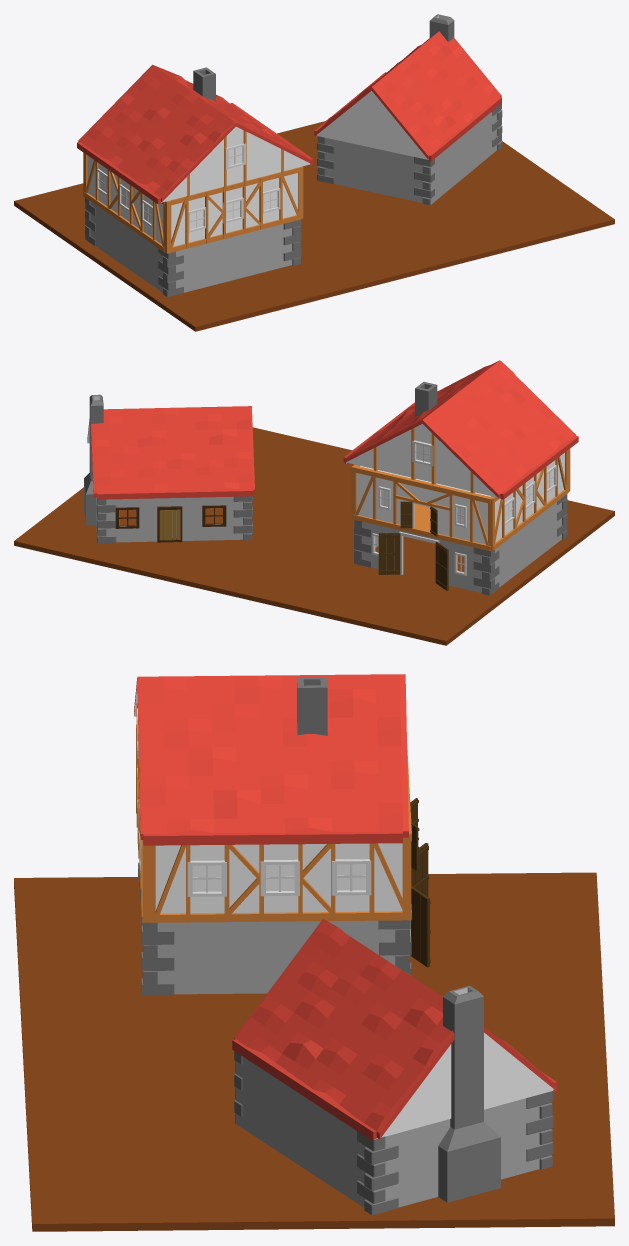
File: WarehouseAge2.fbx
The picture shows the model from 3 angles, top to bottom: view 1: azimuth 30°, elevation 25°; view 2: azimuth 150°, elevation 25°; view 3: azimuth 270°, elevation 25°; orthographic projection. The views are drawn at different scales.
Parts seen in each view (by area): view 1: Cube.451, Cube.473, Cube.474, Cube.672, Cube.599, Cube.631, Cube.491, Cube.492, Cube.452, Cube.506, Cube.673; view 2: Cube.451, Cube.473, Cube.474, Cube.672, Cube.599, Cube.630, Cube.631, Cube.673, Cube.475, Cube.529, Cube.452, Cube.506 (+1 smaller); view 3: Cube.451, Cube.473, Cube.474, Cube.599, Cube.631, Cube.672, Cube.673, Cube.521, Cube.452, Cube.450.
Part boxes in pixels (bbox=[...]): Cube.451: bbox=[14, 121, 614, 331]; Cube.473: bbox=[77, 64, 313, 203]; Cube.474: bbox=[314, 31, 501, 161]; Cube.672: bbox=[90, 201, 292, 292]; Cube.599: bbox=[319, 111, 496, 204]; Cube.631: bbox=[87, 156, 298, 246]; Cube.491: bbox=[169, 214, 301, 253]; Cube.492: bbox=[167, 167, 301, 205]; Cube.452: bbox=[193, 67, 215, 101]; Cube.506: bbox=[83, 192, 164, 252]; Cube.673: bbox=[429, 14, 454, 42]; Cube.451: bbox=[14, 427, 614, 645]; Cube.473: bbox=[343, 360, 578, 499]; Cube.474: bbox=[87, 406, 254, 499]; Cube.672: bbox=[362, 502, 561, 592]; Cube.599: bbox=[96, 496, 244, 542]; Cube.630: bbox=[356, 473, 487, 544]; Cube.631: bbox=[360, 453, 564, 542]; Cube.673: bbox=[84, 394, 103, 524]; Cube.475: bbox=[353, 465, 492, 503]; Cube.529: bbox=[353, 515, 490, 551]; Cube.452: bbox=[415, 381, 437, 416]; Cube.506: bbox=[493, 488, 568, 550]; Cube.451: bbox=[14, 872, 614, 1231]; Cube.473: bbox=[134, 674, 408, 845]; Cube.474: bbox=[232, 919, 556, 1141]; Cube.599: bbox=[235, 1057, 550, 1207]; Cube.631: bbox=[155, 843, 402, 913]; Cube.672: bbox=[141, 905, 395, 994]; Cube.673: bbox=[438, 985, 500, 1202]; Cube.521: bbox=[151, 909, 411, 922]; Cube.452: bbox=[297, 677, 327, 735]; Cube.450: bbox=[402, 834, 411, 920].
Bounding box in the file's own units: 971 × 365 × 702.
